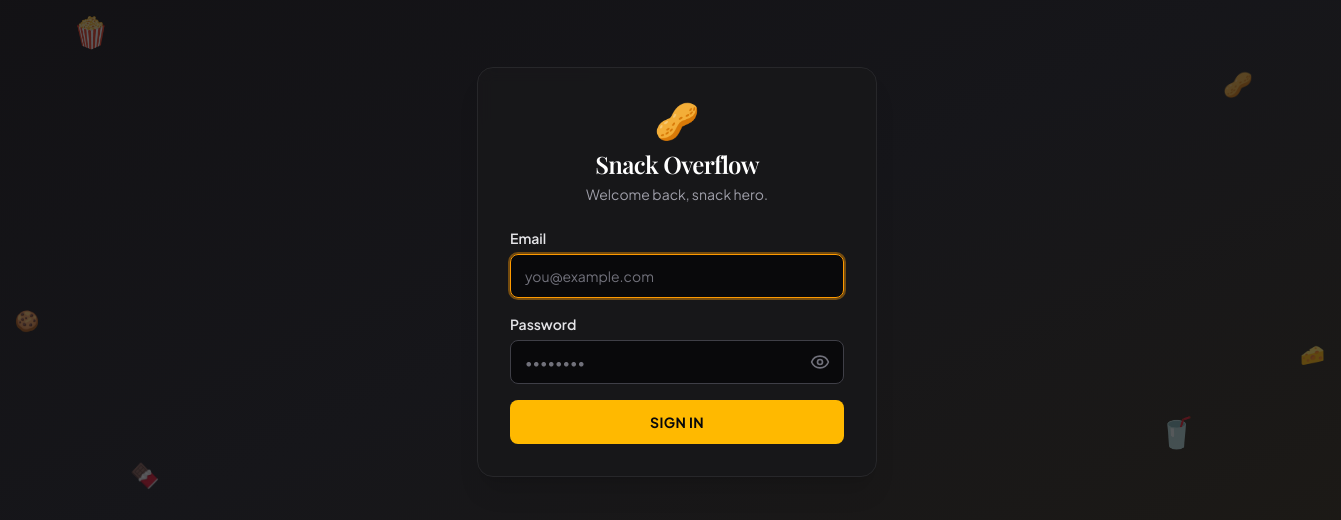
LoginPage › shows validation errors for empty fields on submit
The image size is (1341, 520).
Click the button "Sign in".
click(677, 422)  # box 510,400 -> 844,444
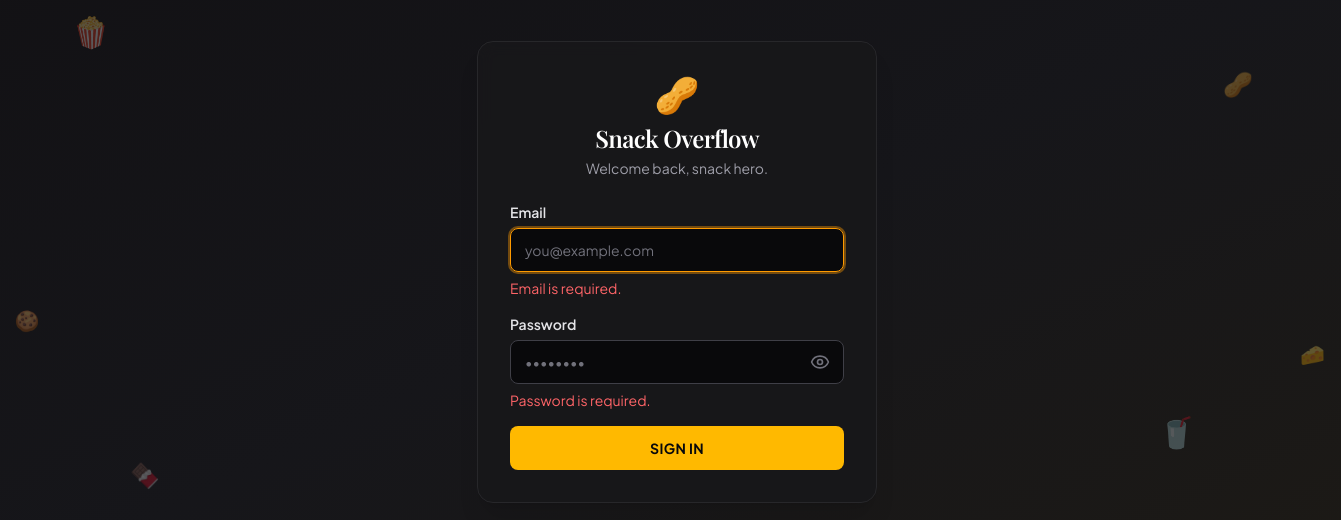
Check: the text "Email is required." is shown, box 510,279 -> 621,297
Check: the text "Password is required." is shown, box 510,391 -> 650,409
